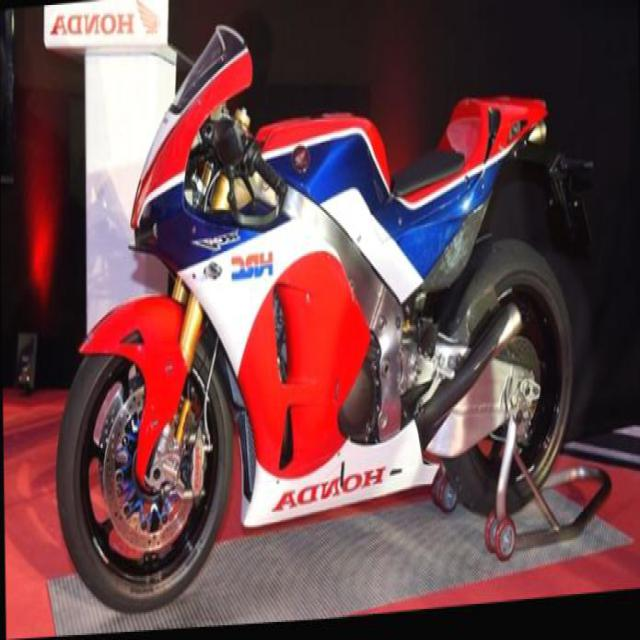HRC RCV 213: (48, 0, 582, 624)
